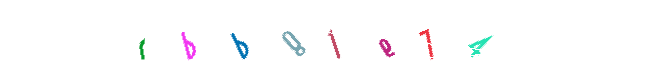1: (242, 0, 322, 80)
4: (438, 0, 518, 80)
7: (346, 0, 426, 80)
8: (227, 0, 307, 80)
B: (148, 0, 228, 80), (200, 0, 280, 80)
E: (285, 0, 365, 80)
R: (102, 0, 182, 80)
